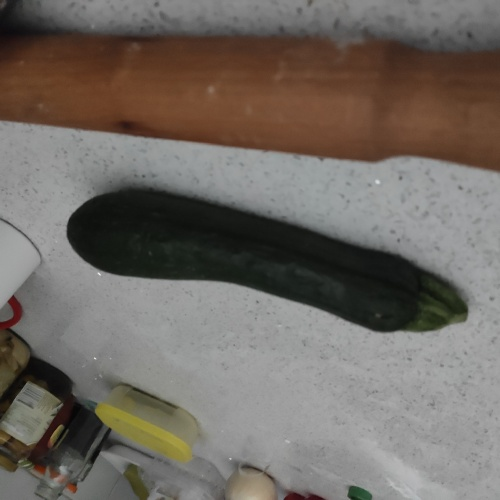zucchine: (87, 192, 462, 349)
